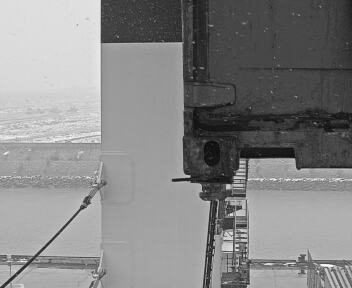twist_lock_1: (183, 170, 238, 211)
